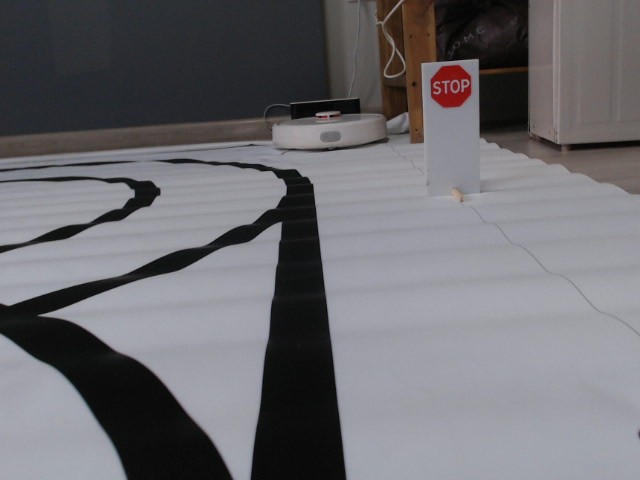Stop: (429, 63, 473, 110)
